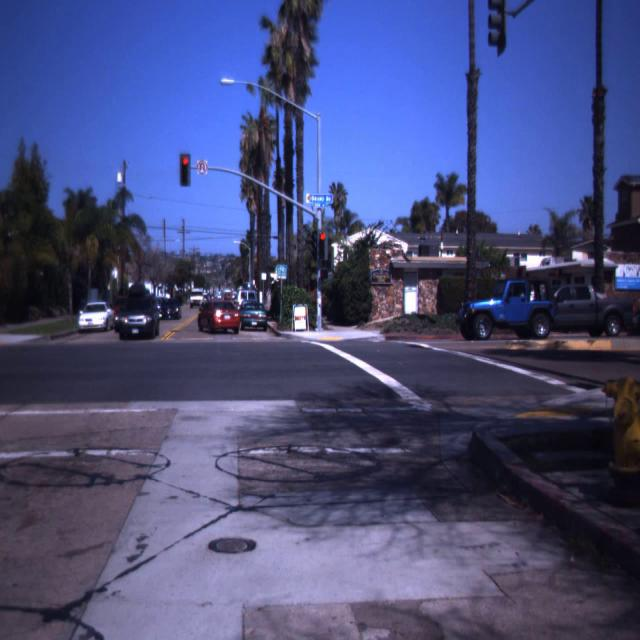stop: (317, 231, 329, 252), (181, 156, 190, 180)
stop traffic light: (317, 231, 329, 252), (181, 156, 190, 180)
